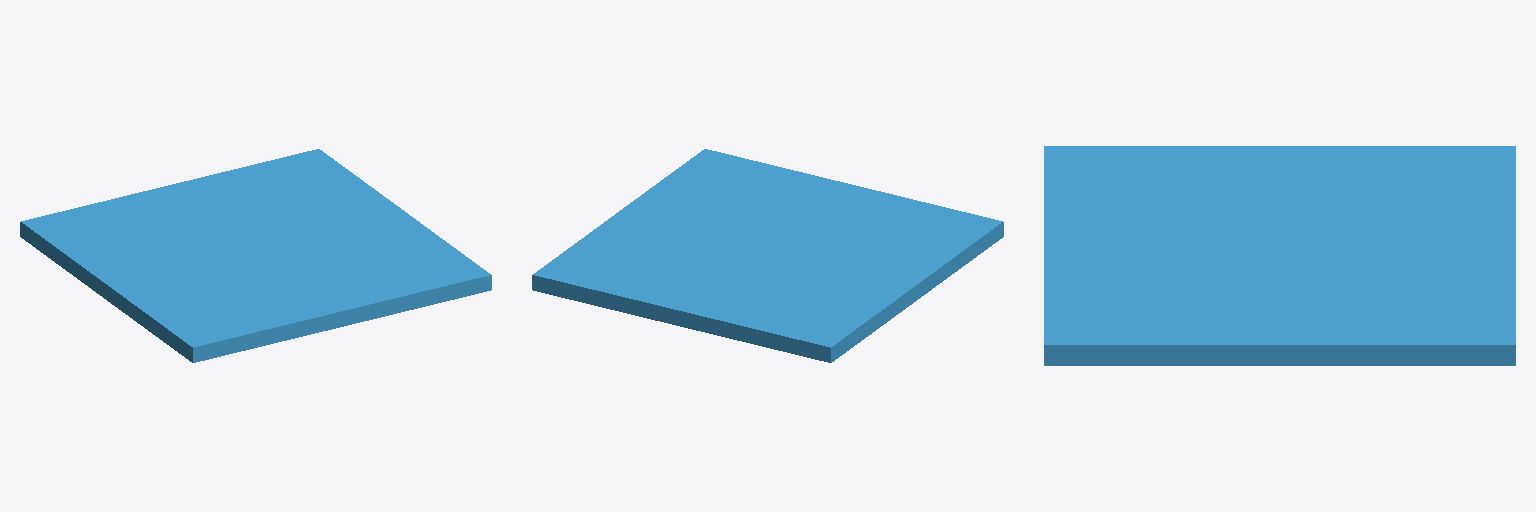
robot.urdf — ground_skeleton:
<?xml version="1.0"?>
<robot name="ground_skeleton">
    <link name="world" />
    <link name="ground_link">
        <!--<collision name="collision">-->
                <!--<origin xyz = "-2. -2.3 0.0" rpy="1.57 0 0" />-->
            <!--<geometry>-->
                <!--<mesh filename = "MountainTerrain.dae" scale="0.01 0.01 0.01" />-->
                <!--<mesh filename = "mount_blend.3ds" scale="1 1 1" />-->
                <!--<mesh filename = "SnowTerrain.dae" scale="1 1 1" />-->
                <!--<mesh filename = "test1.dae" scale="0.1 0.1 0.1" />-->
                <!--<mesh filename = "tree_ground.obj" scale="1 1 1" />-->
            <!--</geometry>-->
         <collision>
            <origin xyz="0 0 0" rpy="0 -0 0" />
            <geometry>
                <box size="5.0 5.0 0.05" />
            </geometry>
        </collision>
         <visual name="visual">
            <origin xyz = "-10. -10. -1.0" rpy="0. 0 0" />
            <!--<origin xyz = "0 0 -0.54" rpy="0 0 0" />-->
            <geometry>
                <!--<mesh filename = "tile_marble_diamond.dae" scale="1. 1. 1." />-->
                <mesh filename = "tile_check.dae" scale="1. 1. 1." />
                <!--<mesh filename = "tile_marble_white.dae" scale="0.5 0.5 0.5" />-->
            </geometry>
        </visual>
        <inertial>
            <mass value="1.0" />
            <origin xyz="0 0 0" rpy="0 0 0" />
            <inertia ixx="1.0" ixy="0" ixz="0" iyy="1.0" iyz="0" izz="1.0" />
        </inertial>
    </link>
    <joint name="ground_joint" type="fixed">
        <origin xyz="0 0 0" rpy="0 0 0" />
        <parent link="world" />
        <child link="ground_link" />
    </joint>
</robot>

--- What the picture shows (computed from the rendered views, not written in the file) ---
The picture shows the robot from 3 angles, left to right: view 1: azimuth 30°, elevation 25°; view 2: azimuth 150°, elevation 25°; view 3: azimuth 270°, elevation 25°; orthographic projection.
Robot: ground_skeleton — 2 links, 1 joints (1 fixed); root link world; default pose: all joints at 0.
Links seen in each view (by area): view 1: ground_link; view 2: ground_link; view 3: ground_link.
Boxes of the visible links, x1,y1,x2,y2 form: ground_link: (20,149,491,362); ground_link: (532,149,1003,362); ground_link: (1044,146,1515,365).
Bounding box of the posed robot: 40 × 40 × 2 m (x, y, z).
Meshes: 1 distinct files referenced, 1 mesh visuals loaded (1 Collada DAE).